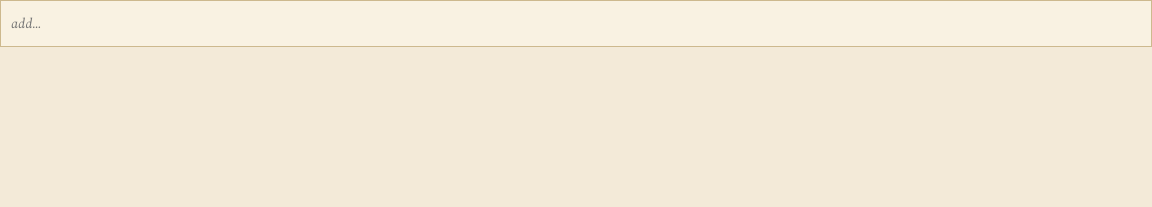
it: ChipField menu › opens on click and lists every option
What coordinates should you click on to do the following:
click the dropdown named "Allies"
I would click on:
 (576, 24)
Its box is [11,8,1141,39].
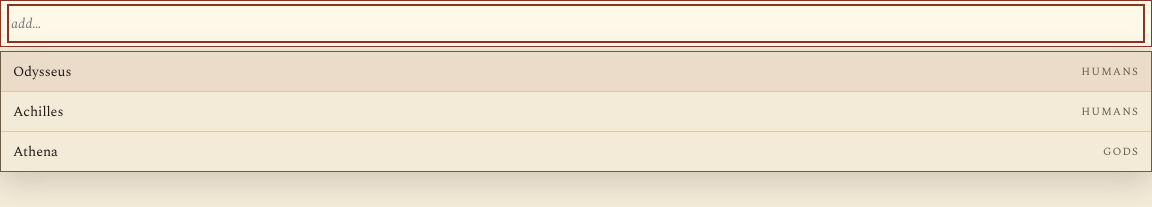
Expected: the options read "OdysseusHumans", "AchillesHumans", "AthenaGods", in this order, [1,52,1151,92]; [1,92,1151,132]; [13,141,1139,162]
